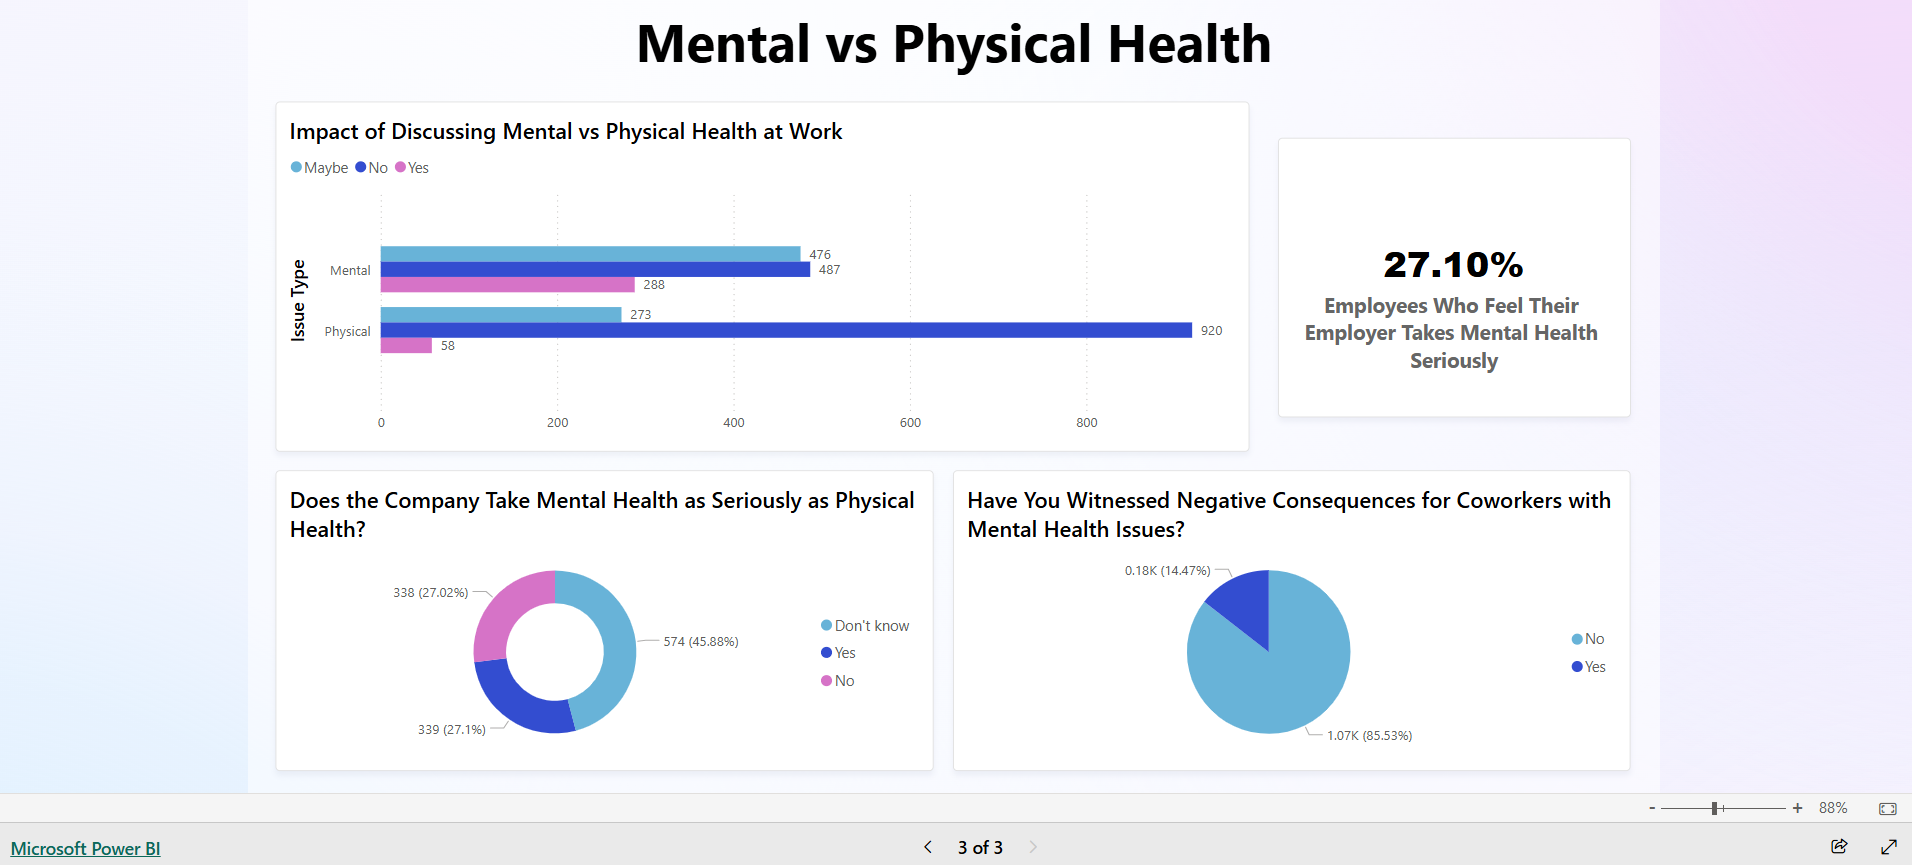

The page's visual inventory and layout, read from the dashboard file:
{"tool":"powerbi","page":{"name":"Mental vs Physical Health","canvas":[1280,720],"ordinal":2},"visuals":[{"type":"clusteredBarChart","title":"Impact of Discussing Mental vs Physical Health at Work","fields":{"Series":["MentalVsPhysicalConsequences.Response"],"Category":["MentalVsPhysicalConsequences.ConsequenceType"],"Y":["CountNonNull(MentalVsPhysicalConsequences.ConsequenceType)"]},"box":[25.3,92.9,883.1,317.3],"z":0},{"type":"donutChart","title":"Does the Company Take Mental Health as Seriously as Physical Health?","fields":{"Category":["survey.MH vs Physical Health"],"Y":["CountNonNull(survey.MH vs Physical Health)"]},"box":[25.3,427.1,597.2,272.7],"z":1000},{"type":"pieChart","title":"Have You Witnessed Negative Consequences for Coworkers with Mental Health Issues?","fields":{"Category":["survey.Observed Negative Consequences"],"Y":["CountNonNull(survey.Observed Negative Consequences)"]},"box":[639.4,427.1,614.1,272.7],"z":2000},{"type":"textbox","box":[0,0,1280,78.6],"z":3000},{"type":"card","fields":{"Values":["MentalVsPhysicalConsequences.Percent_Take_MH_Seriously"]},"box":[933.8,125.5,319.7,253.4],"z":4000}]}

Visuals, with their boxes on the page's 1280x720 design canvas (x1, y1, x2, y2). These are canvas units, not pixel positions in the 1912x865 screenshot, which may show the page scaled, cropped or inside an application window:
"Impact of Discussing Mental vs Physical Health at Work" clusteredBarChart: (left=25, top=93, right=908, bottom=410)
"Does the Company Take Mental Health as Seriously as Physical Health?" donutChart: (left=25, top=427, right=622, bottom=700)
"Have You Witnessed Negative Consequences for Coworkers with Mental Health Issues?" pieChart: (left=639, top=427, right=1254, bottom=700)
textbox: (left=0, top=0, right=1280, bottom=79)
card - MentalVsPhysicalConsequences.Percent_Take_MH_Seriously: (left=934, top=126, right=1254, bottom=379)
